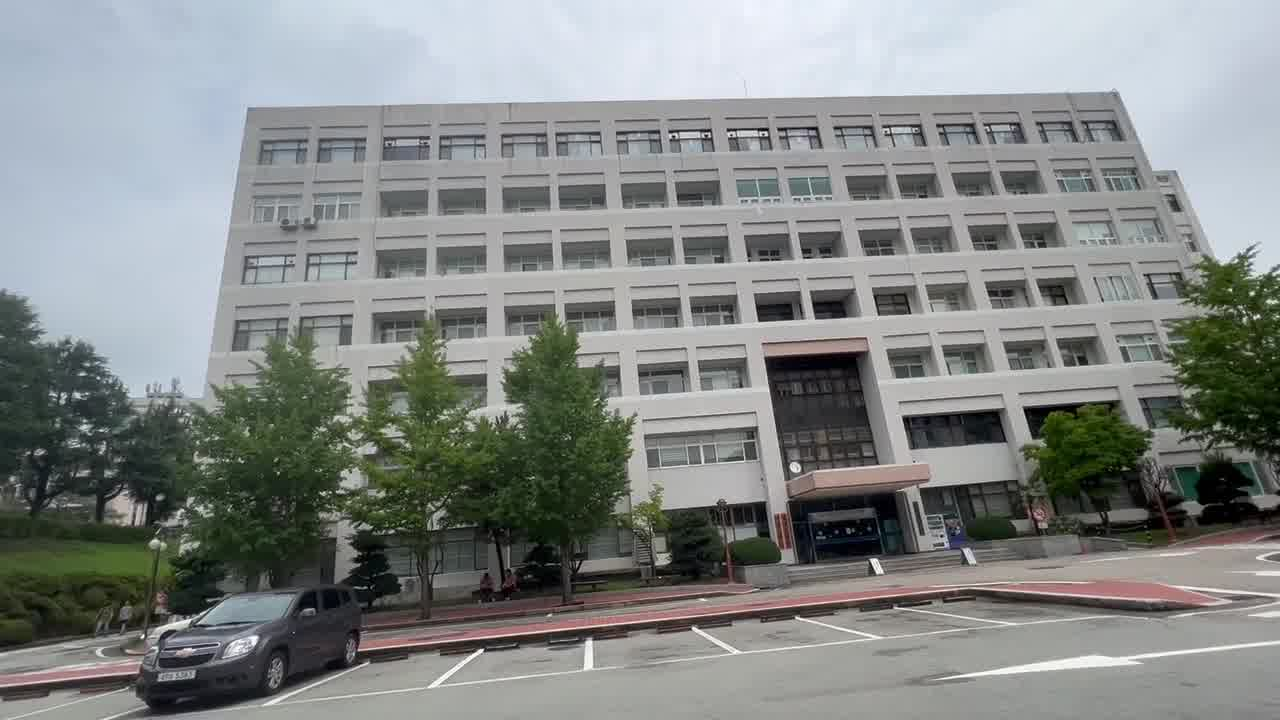low: (624, 109, 1022, 563)
